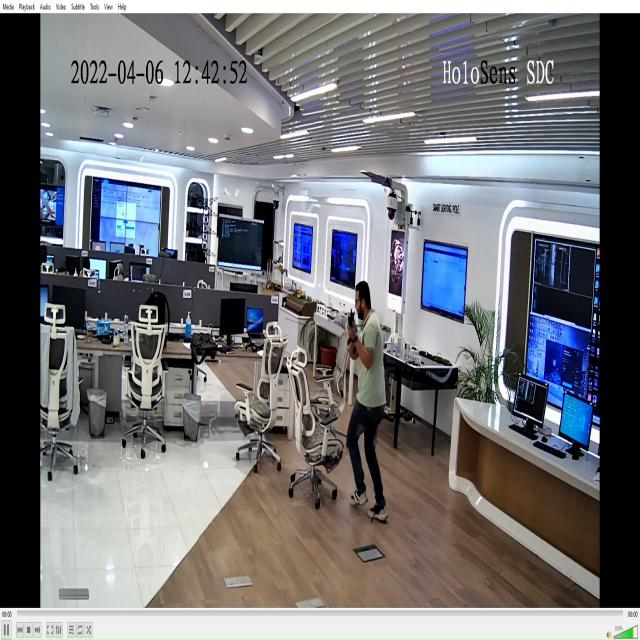long weapon: (343, 301, 361, 374)
